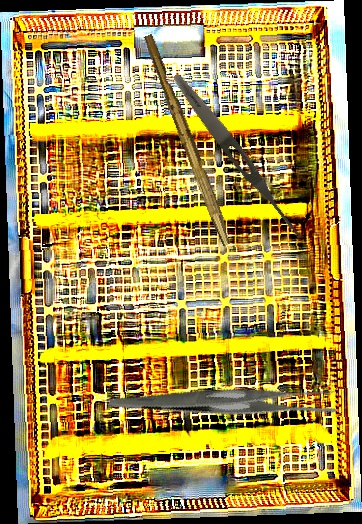Dressing Forceps: (108, 325, 342, 474), (168, 70, 308, 242)
Scalpel Handle: (138, 33, 238, 247)
